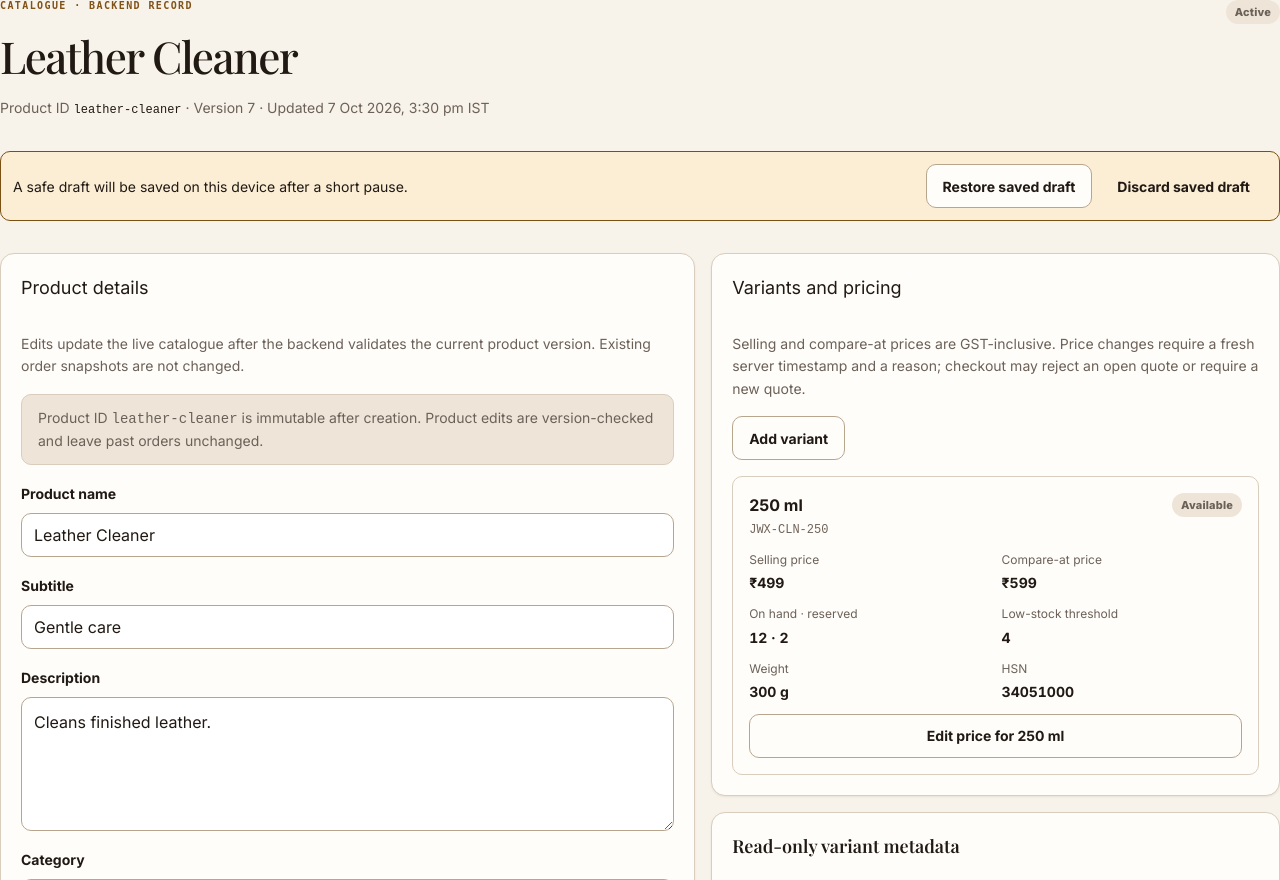
Test: ProductEditor › does not retry an uncertain add-variant request and labels a match unattributed
Step 1. Click the button "Add variant" → (789, 438), box [732,416,845,460]
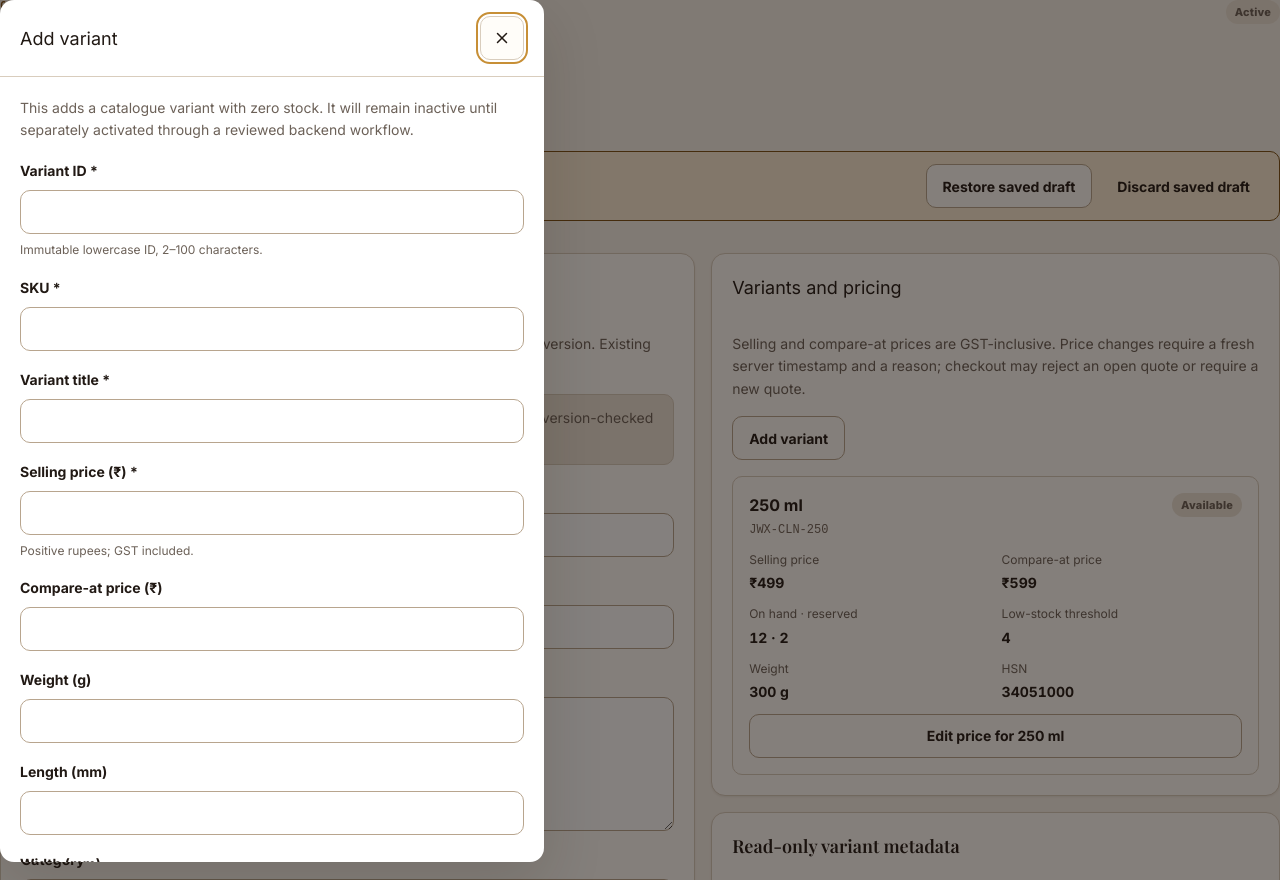
Step 2. Type "cleaner-500" into the field labelled "Variant ID *" → (272, 212), box [20,190,524,234]
Step 3. Type "JWX-CLN-500" into the field labelled "SKU" → (272, 329), box [20,307,524,351]
Step 4. Type "500 ml" into the field labelled "Variant title" → (272, 421), box [20,399,524,443]
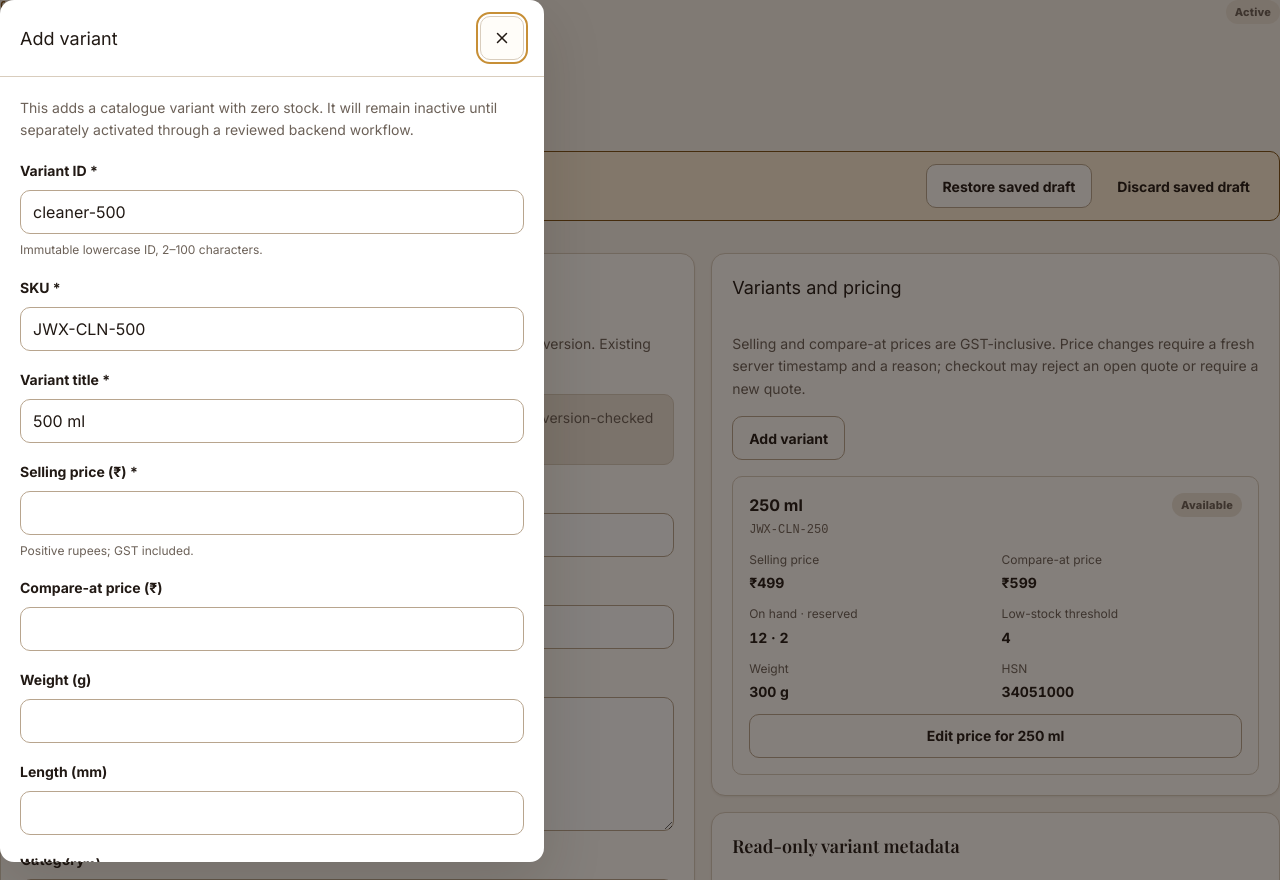
Step 5. Type "799" into the field labelled "Selling price (₹) *" → (272, 513), box [20,491,524,535]
(page scrolled)
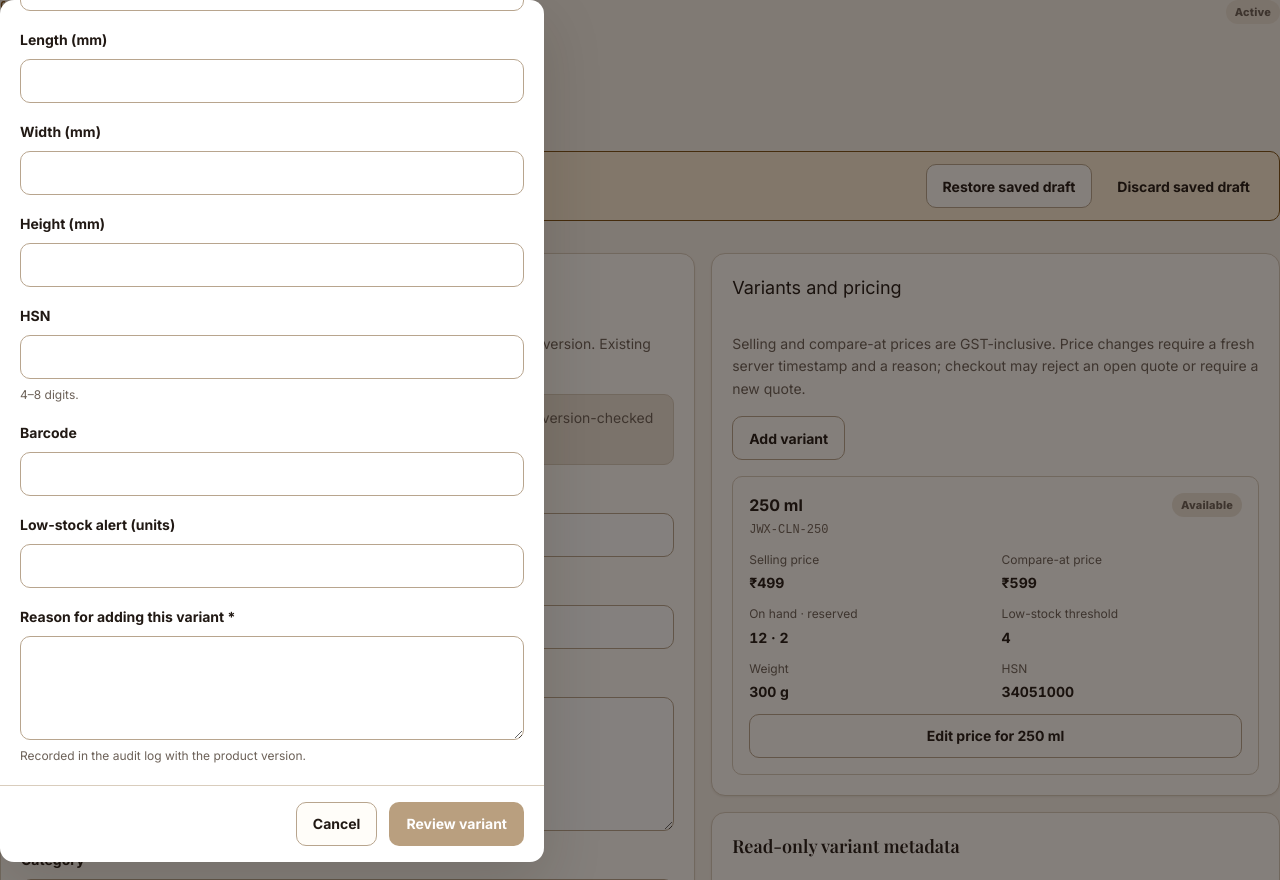
Step 6. Type "Add the 500 ml size" into the text box labelled "Reason for adding this variant *" → (272, 688), box [20,636,524,740]
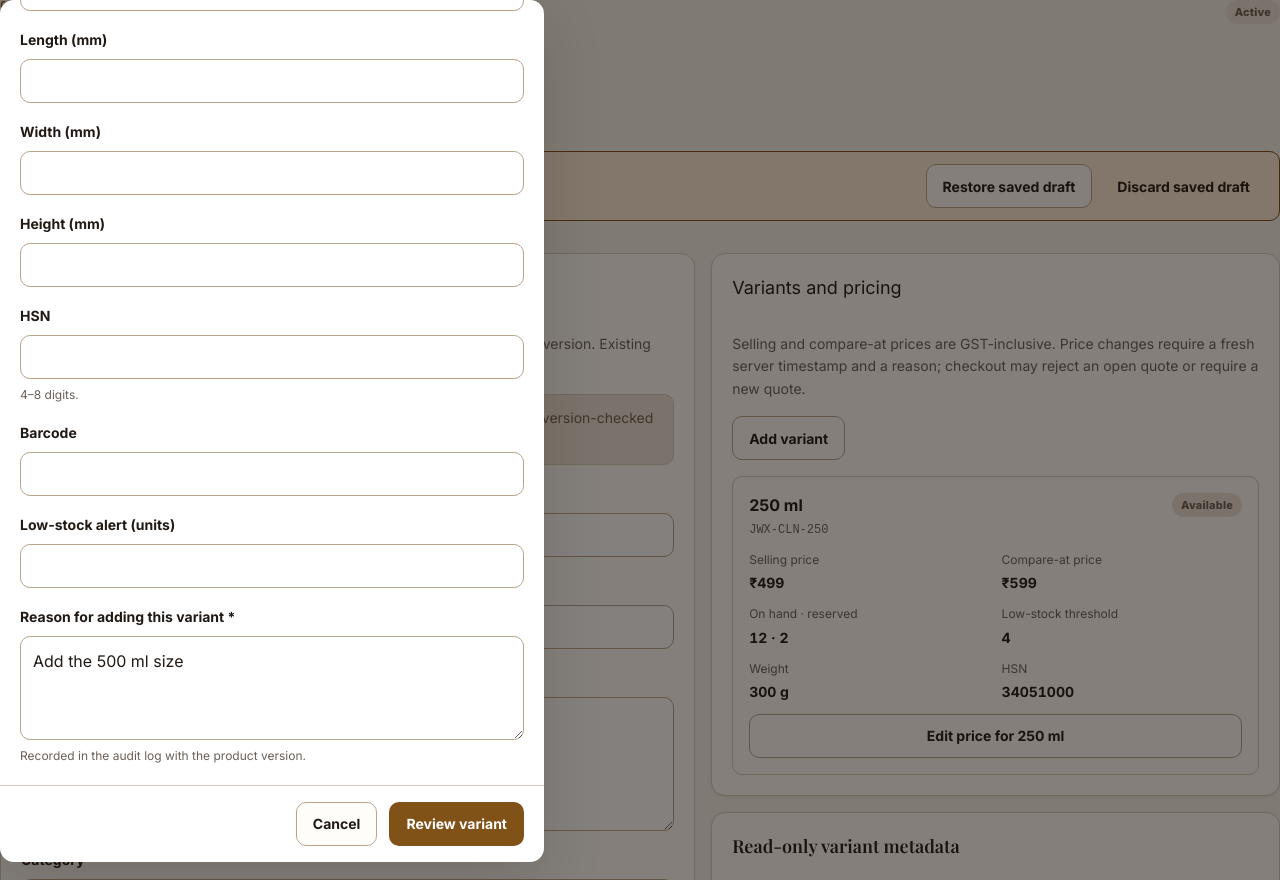
Step 7. Click the button "Review variant" → (457, 824), box [389,802,524,846]
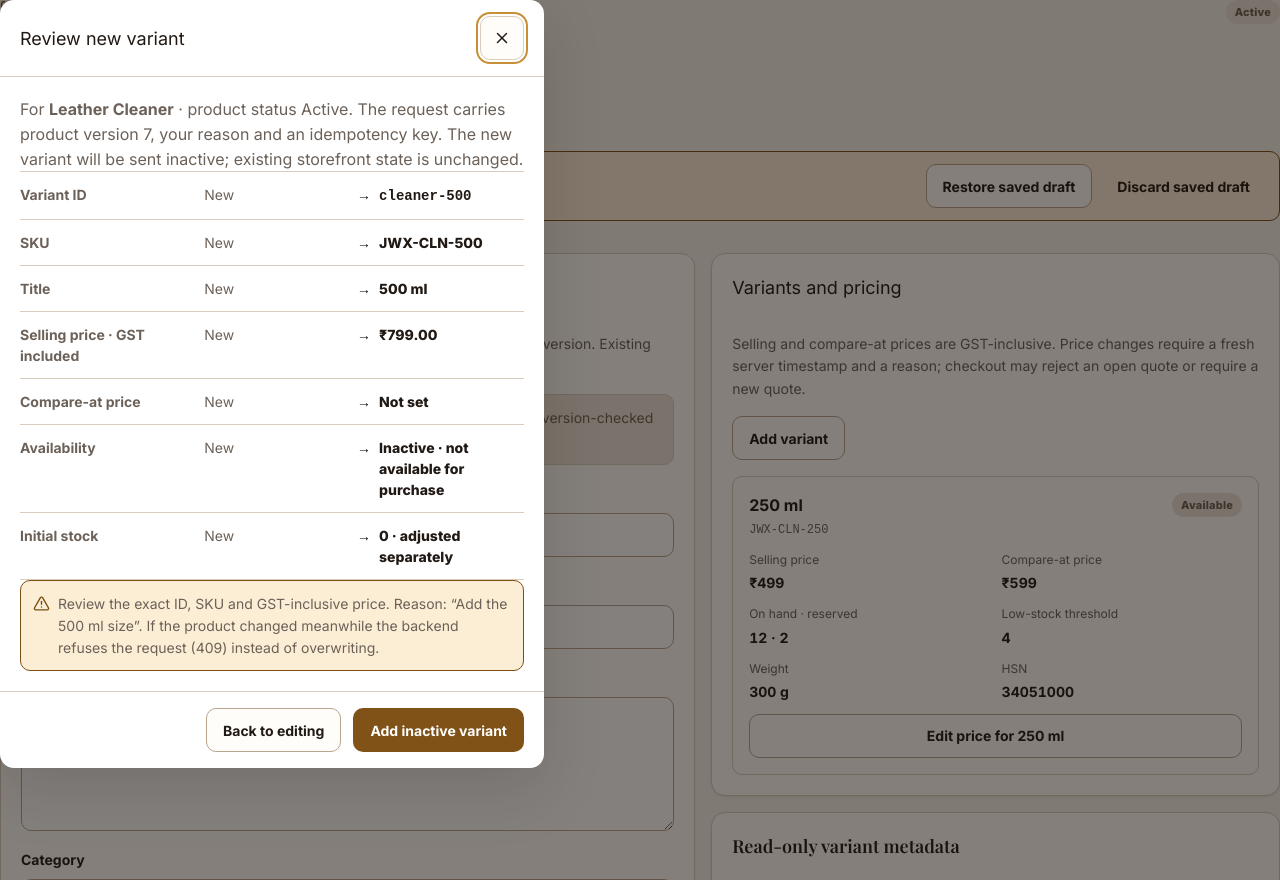
Step 8. Click the button "Add inactive variant" → (439, 730), box [353,708,524,752]
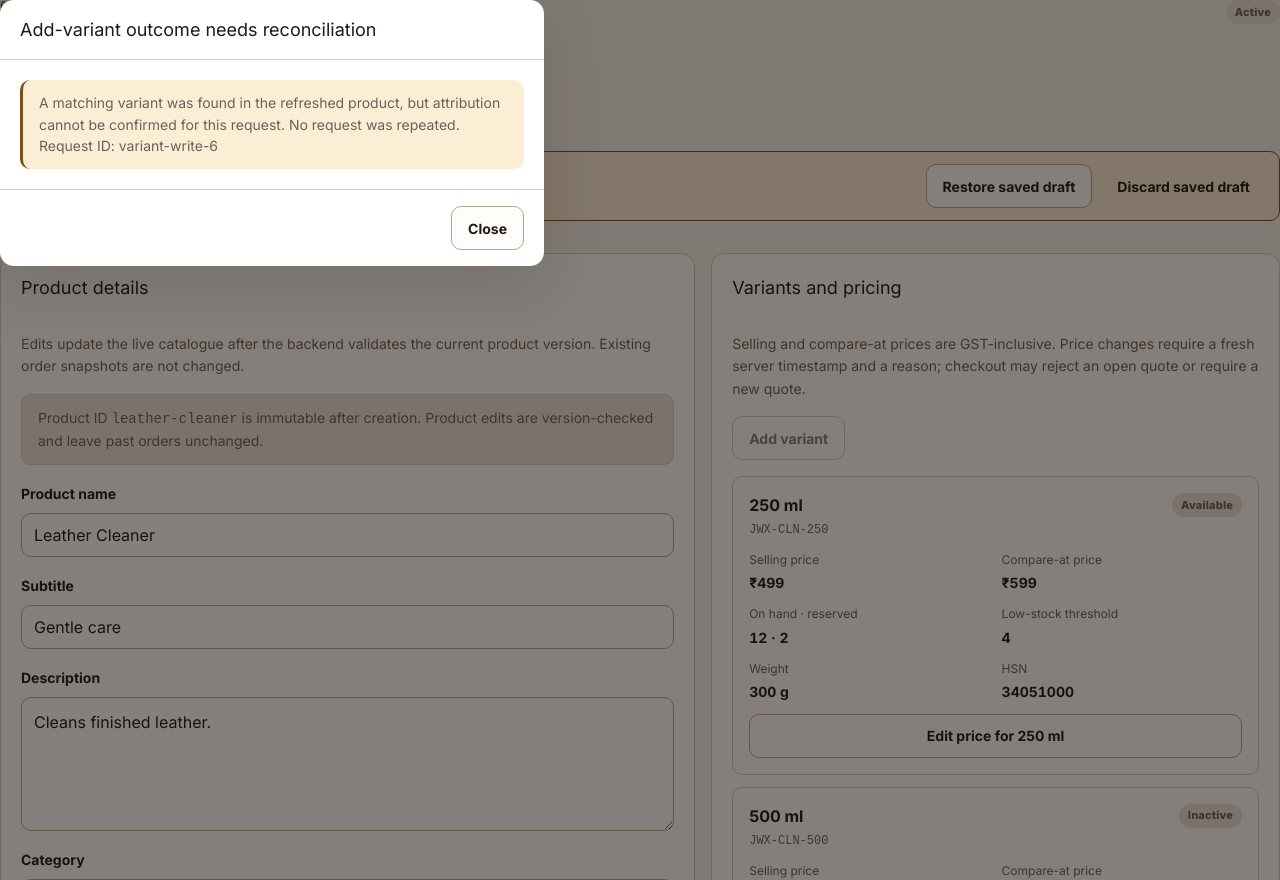
Expected: the text "variant-write-6" is shown, [39,94,500,154]
Expected: the button "Add inactive variant" is gone
